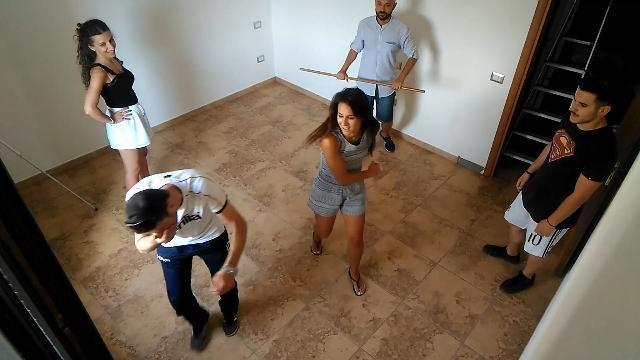non-violence: (482, 71, 624, 302), (298, 0, 436, 154), (67, 18, 155, 218)
violence: (124, 90, 380, 354)
